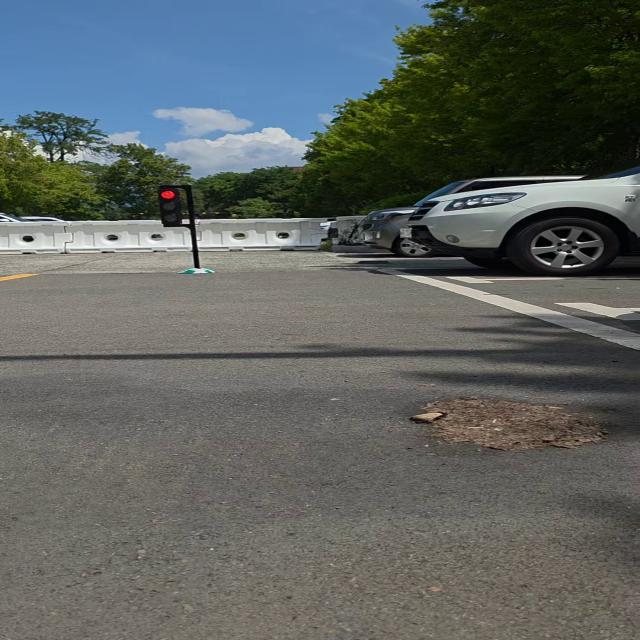red: (154, 187, 190, 225)
